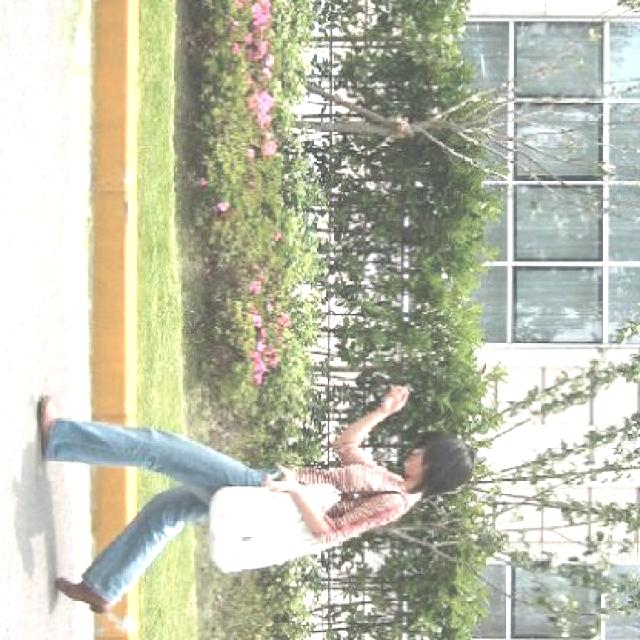Person: (25, 388, 477, 614)
